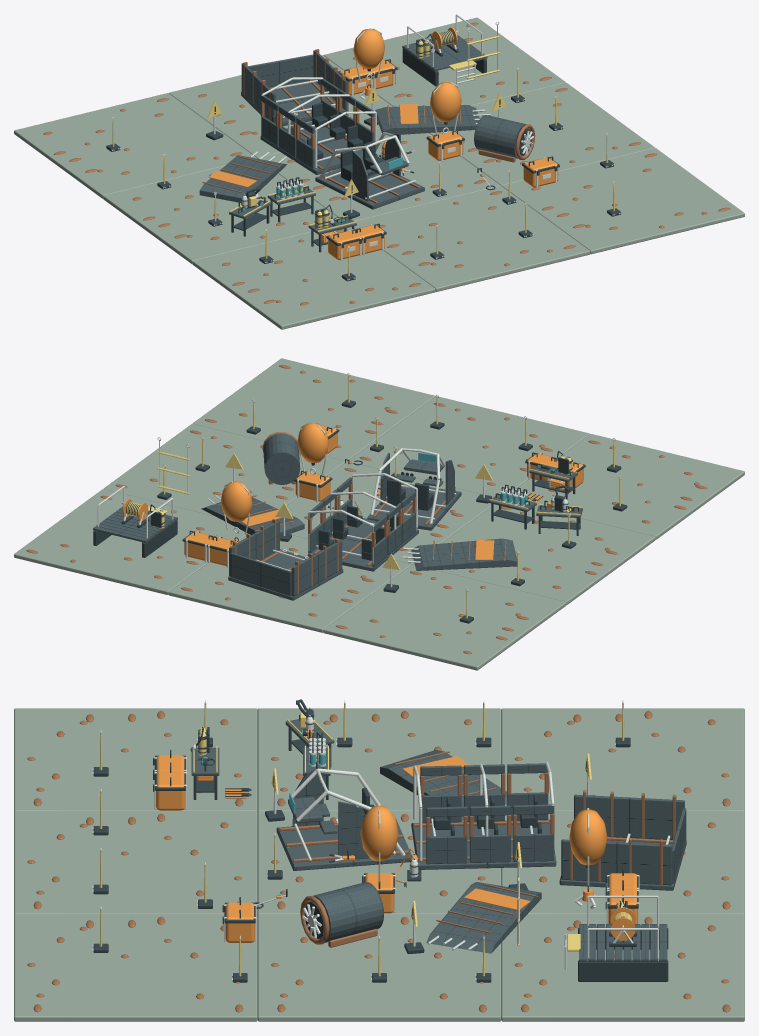
The model's file is diving-and-underwater-salvage-aircraft-s-f3183bad-starter-scene__28464.glb.
3 views of the same model, one above another, from view 1: azimuth 30°, elevation 25°; view 2: azimuth 150°, elevation 25°; view 3: azimuth 270°, elevation 25° (orthographic). The views are drawn at different scales.
Visible parts, largest first — view 1: 008-seafloor-display-base/seafloor-display-base-sand, 000-seafloor-display-base/seafloor-display-base-sand, 005-seafloor-display-base/seafloor-display-base-sand, 002-seafloor-display-base/seafloor-display-base-sand, 001-seafloor-display-base/seafloor-display-base-sand, 007-seafloor-display-base/seafloor-display-base-sand, 006-seafloor-display-base/seafloor-display-base-sand, 004-seafloor-display-base/seafloor-display-base-sand, 011-cargo-hold-section/cargo-hold-section-steel, 003-seafloor-display-base/seafloor-display-base-sand, 010-wreck-cabin-section/wreck-cabin-section-steel, 009-wreck-cockpit-section/wreck-cockpit-section-steel (+17 smaller); view 2: 000-seafloor-display-base/seafloor-display-base-sand, 008-seafloor-display-base/seafloor-display-base-sand, 002-seafloor-display-base/seafloor-display-base-sand, 005-seafloor-display-base/seafloor-display-base-sand, 001-seafloor-display-base/seafloor-display-base-sand, 006-seafloor-display-base/seafloor-display-base-sand, 007-seafloor-display-base/seafloor-display-base-sand, 003-seafloor-display-base/seafloor-display-base-sand, 011-cargo-hold-section/cargo-hold-section-steel, 004-seafloor-display-base/seafloor-display-base-sand, 010-wreck-cabin-section/wreck-cabin-section-steel, 012-torn-wing-section/torn-wing-section-steel (+15 smaller); view 3: 008-seafloor-display-base/seafloor-display-base-sand, 005-seafloor-display-base/seafloor-display-base-sand, 000-seafloor-display-base/seafloor-display-base-sand, 002-seafloor-display-base/seafloor-display-base-sand, 007-seafloor-display-base/seafloor-display-base-sand, 006-seafloor-display-base/seafloor-display-base-sand, 001-seafloor-display-base/seafloor-display-base-sand, 003-seafloor-display-base/seafloor-display-base-sand, 010-wreck-cabin-section/wreck-cabin-section-steel, 004-seafloor-display-base/seafloor-display-base-sand, 011-cargo-hold-section/cargo-hold-section-steel, 009-wreck-cockpit-section/wreck-cockpit-section-steel (+26 smaller).
Part boxes in pixels (<box>): 008-seafloor-display-base/seafloor-display-base-sand: <box>502,148,744,254</box>; 000-seafloor-display-base/seafloor-display-base-sand: <box>14,93,256,198</box>; 005-seafloor-display-base/seafloor-display-base-sand: <box>354,186,590,291</box>; 002-seafloor-display-base/seafloor-display-base-sand: <box>192,227,435,329</box>; 001-seafloor-display-base/seafloor-display-base-sand: <box>103,158,337,264</box>; 007-seafloor-display-base/seafloor-display-base-sand: <box>429,83,655,185</box>; 006-seafloor-display-base/seafloor-display-base-sand: <box>323,17,565,106</box>; 004-seafloor-display-base/seafloor-display-base-sand: <box>258,128,500,221</box>; 011-cargo-hold-section/cargo-hold-section-steel: <box>241,50,347,125</box>; 003-seafloor-display-base/seafloor-display-base-sand: <box>169,55,392,158</box>; 010-wreck-cabin-section/wreck-cabin-section-steel: <box>260,78,377,174</box>; 009-wreck-cockpit-section/wreck-cockpit-section-steel: <box>315,133,424,209</box>; 000-seafloor-display-base/seafloor-display-base-sand: <box>323,564,566,670</box>; 008-seafloor-display-base/seafloor-display-base-sand: <box>193,358,435,461</box>; 002-seafloor-display-base/seafloor-display-base-sand: <box>515,434,744,539</box>; 005-seafloor-display-base/seafloor-display-base-sand: <box>347,396,589,496</box>; 001-seafloor-display-base/seafloor-display-base-sand: <box>413,504,655,604</box>; 006-seafloor-display-base/seafloor-display-base-sand: <box>14,489,247,594</box>; 007-seafloor-display-base/seafloor-display-base-sand: <box>103,423,346,516</box>; 003-seafloor-display-base/seafloor-display-base-sand: <box>168,535,411,632</box>; 011-cargo-hold-section/cargo-hold-section-steel: <box>228,520,343,600</box>; 004-seafloor-display-base/seafloor-display-base-sand: <box>286,461,493,564</box>; 010-wreck-cabin-section/wreck-cabin-section-steel: <box>307,477,418,571</box>; 012-torn-wing-section/torn-wing-section-steel: <box>411,538,517,570</box>; 008-seafloor-display-base/seafloor-display-base-sand: <box>14,914,257,1021</box>; 005-seafloor-display-base/seafloor-display-base-sand: <box>14,811,257,914</box>; 000-seafloor-display-base/seafloor-display-base-sand: <box>501,708,744,811</box>; 002-seafloor-display-base/seafloor-display-base-sand: <box>14,708,257,811</box>; 007-seafloor-display-base/seafloor-display-base-sand: <box>257,914,501,1021</box>; 006-seafloor-display-base/seafloor-display-base-sand: <box>501,914,744,1021</box>; 001-seafloor-display-base/seafloor-display-base-sand: <box>257,708,501,811</box>; 003-seafloor-display-base/seafloor-display-base-sand: <box>501,811,744,914</box>; 010-wreck-cabin-section/wreck-cabin-section-steel: <box>411,763,556,869</box>; 004-seafloor-display-base/seafloor-display-base-sand: <box>257,811,501,914</box>; 011-cargo-hold-section/cargo-hold-section-steel: <box>559,794,686,890</box>; 009-wreck-cockpit-section/wreck-cockpit-section-steel: <box>276,766,411,870</box>.
Bounding box in the file's own units: 21 × 3.33 × 21.
9 materials, 1 textured.
